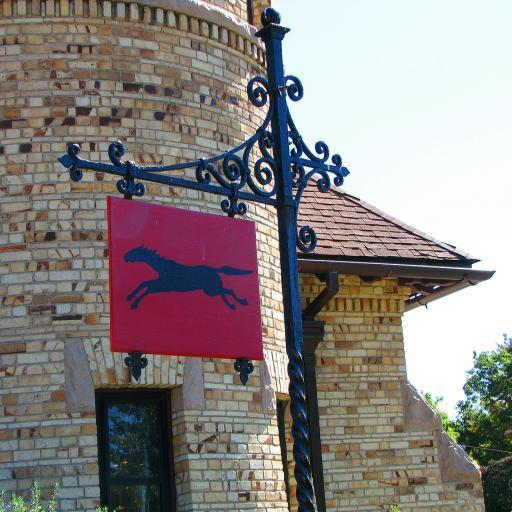horse: (125, 242, 255, 312)
